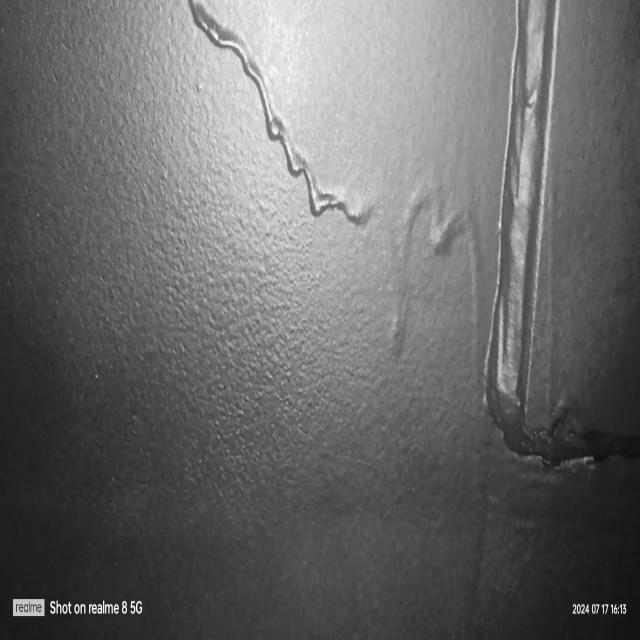paint drips: (180, 0, 379, 242), (384, 159, 489, 417)
